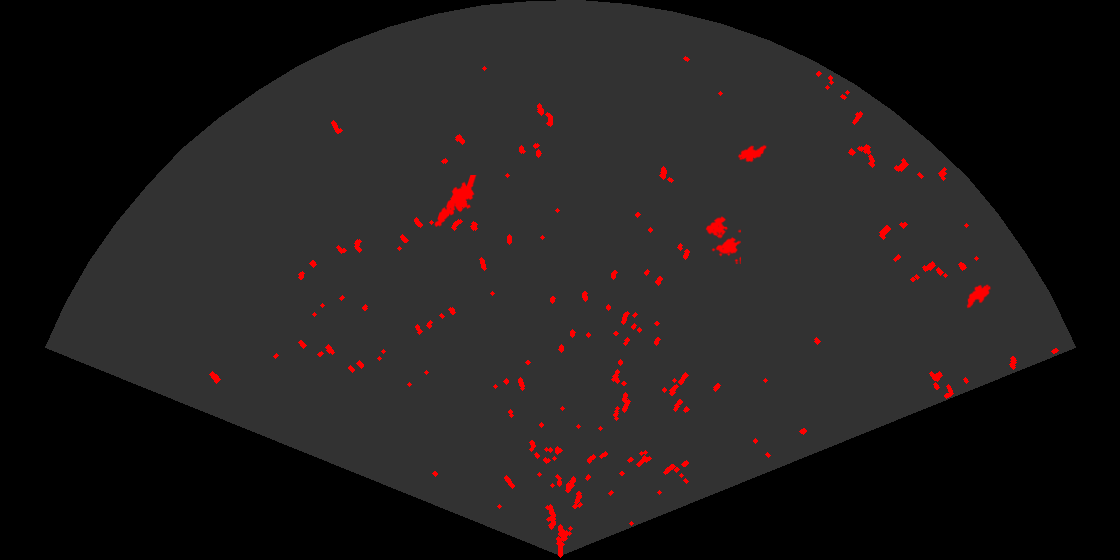AUV: (965, 283, 993, 310), (736, 143, 768, 164)
cage: (704, 215, 741, 264)
frogman: (433, 175, 478, 229)
